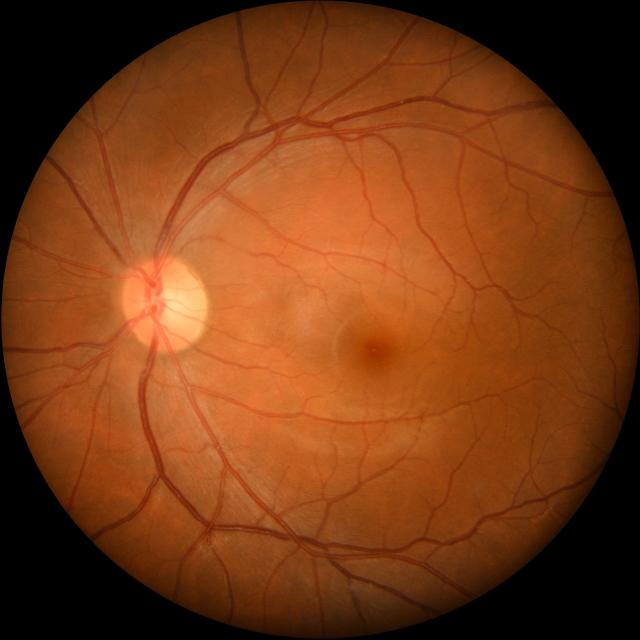OC: (146, 281, 186, 327)
OD: (119, 256, 207, 351)
